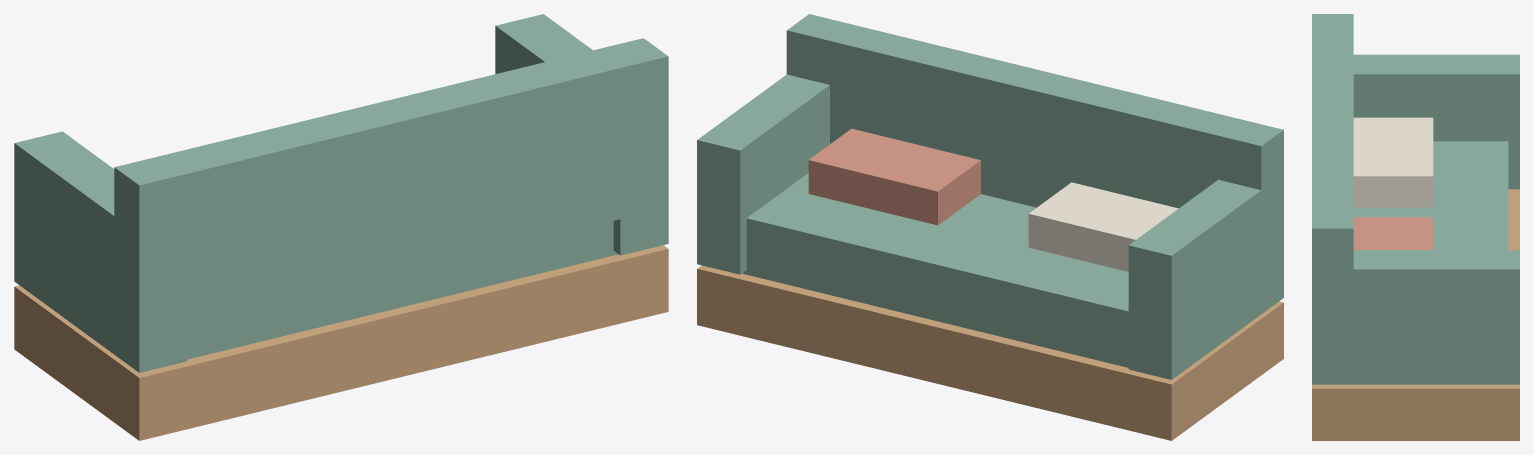
The model's file is sage-sofa.glb.
3 renders of one model, left to right at view 1: azimuth 30°, elevation 25°; view 2: azimuth 150°, elevation 25°; view 3: azimuth 270°, elevation 25°, orthographic. The views are drawn at different scales.
Size of the model in its own units: 2.2 by 1.02 by 0.9.
